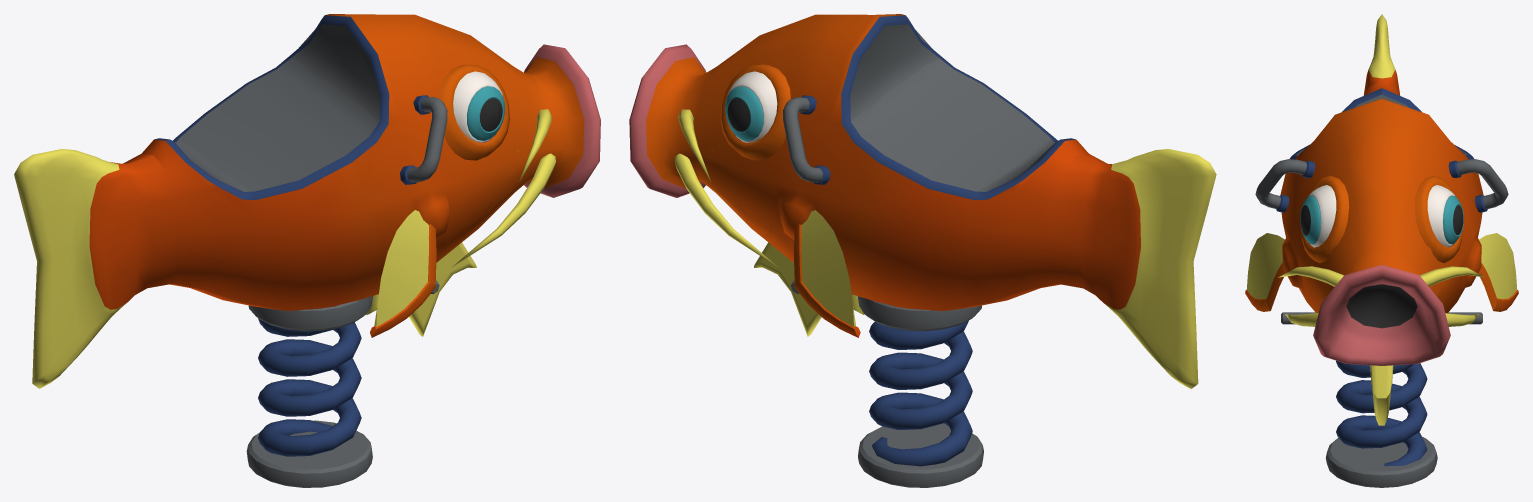
The model's file is SpringFish.fbx.
The picture shows the model from 3 angles, left to right: view 1: azimuth 30°, elevation 25°; view 2: azimuth 150°, elevation 25°; view 3: azimuth 270°, elevation 25°; orthographic projection. The views are drawn at different scales.
Parts seen in each view (by area): view 1: springFish; view 2: springFish; view 3: springFish.
Part boxes in pixels (bbox=[...]): springFish: bbox=[14, 14, 600, 487]; springFish: bbox=[629, 14, 1216, 487]; springFish: bbox=[1245, 14, 1518, 487].
Bounding box in the file's own units: 157 × 119 × 76.16.
